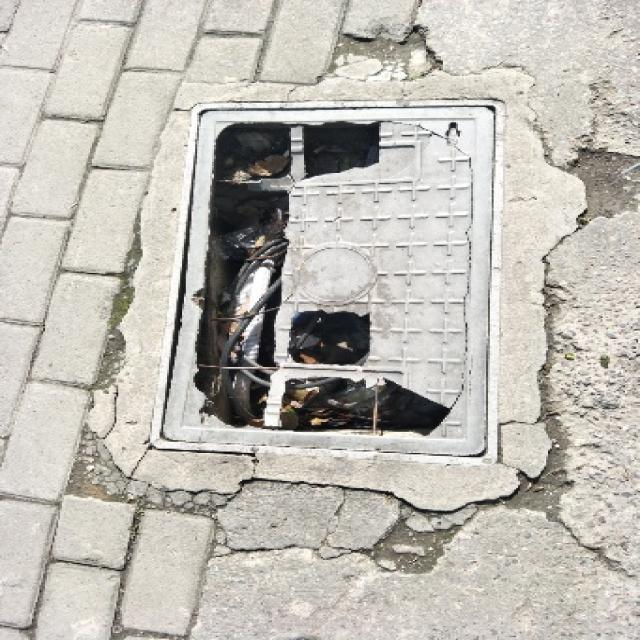Faulty: (161, 74, 535, 476)
